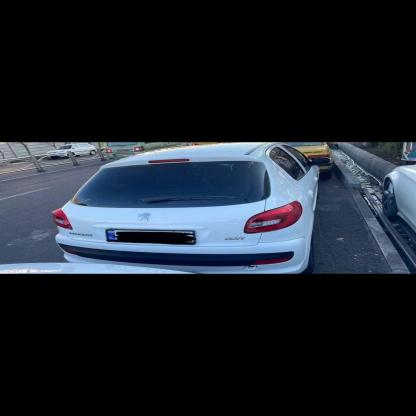Car: (25, 138, 336, 290)
